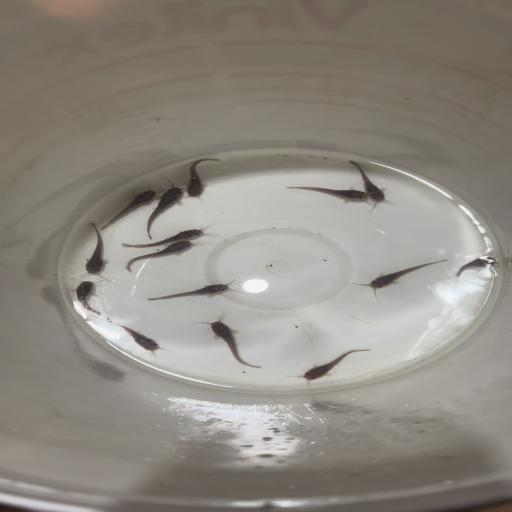lele: (83, 313, 170, 356), (359, 258, 450, 296), (200, 316, 264, 370), (290, 348, 374, 382), (134, 184, 186, 236), (124, 238, 196, 274), (100, 188, 160, 230), (142, 277, 242, 302), (72, 222, 115, 278), (284, 181, 373, 206), (348, 159, 394, 205), (446, 252, 504, 288), (69, 278, 116, 322), (121, 226, 210, 249), (179, 158, 222, 200)
